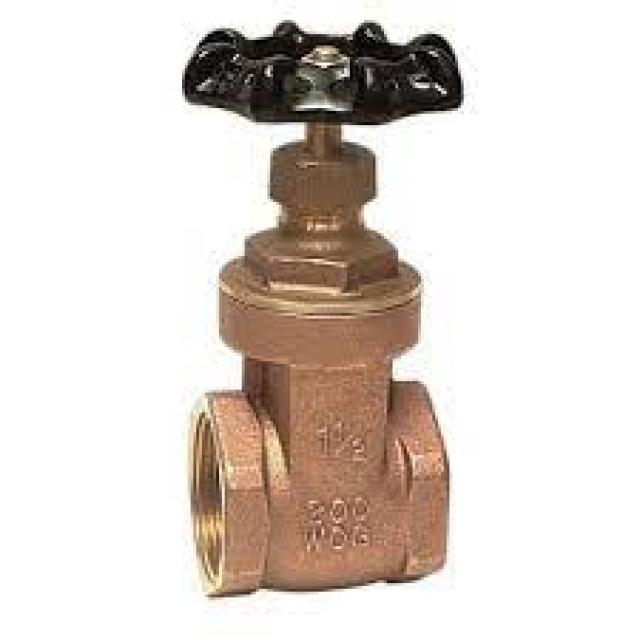Wheel Handle Valve Threaded: (159, 6, 474, 616)
